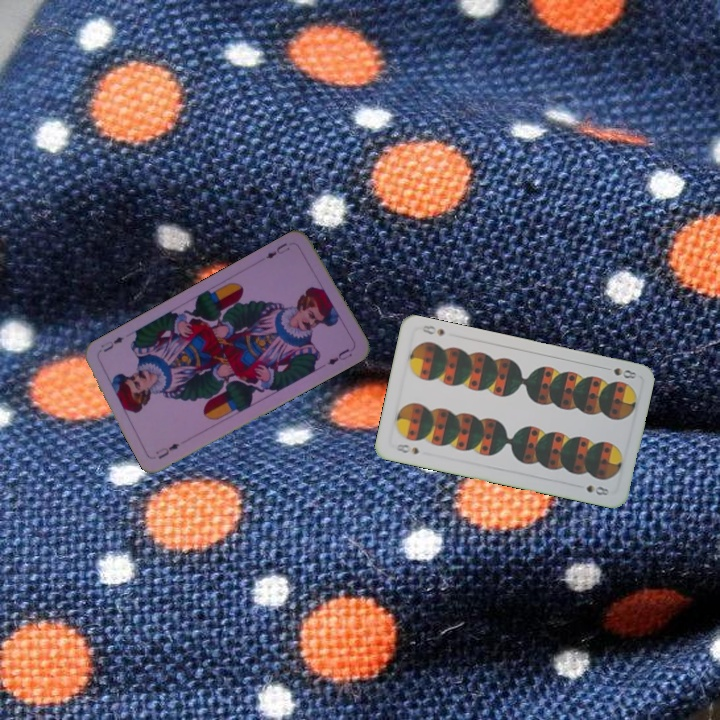EU: (152, 439, 182, 462), (262, 239, 292, 261)
S8: (392, 440, 422, 457), (610, 364, 639, 381)
